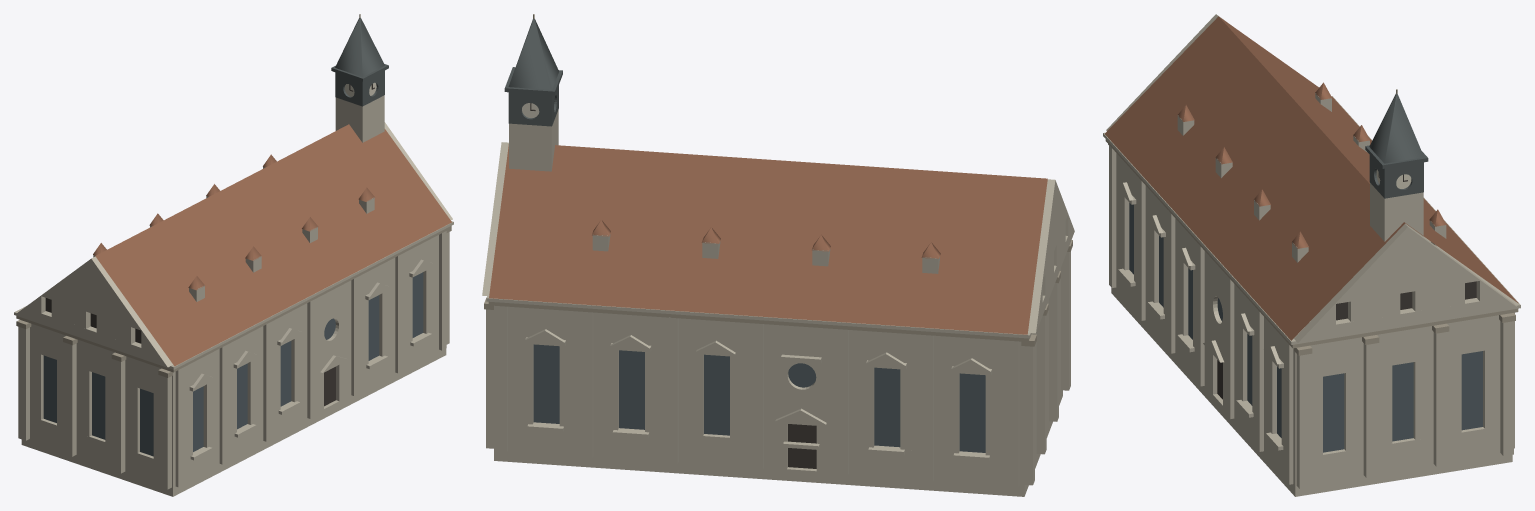
File: temple-saint-martin-montbeliard-near.glb
The picture shows the model from 3 angles, left to right: view 1: azimuth 30°, elevation 25°; view 2: azimuth 150°, elevation 25°; view 3: azimuth 270°, elevation 25°; orthographic projection. The views are drawn at different scales.
Visible parts, largest first — view 1: temple-saint-martin-montbeliard-0-stone, temple-saint-martin-montbeliard-0-roof, temple-saint-martin-montbeliard-0-glass, temple-saint-martin-montbeliard-0-slate, temple-saint-martin-montbeliard-0-trim, temple-saint-martin-montbeliard-0-shadow; view 2: temple-saint-martin-montbeliard-0-stone, temple-saint-martin-montbeliard-0-roof, temple-saint-martin-montbeliard-0-glass, temple-saint-martin-montbeliard-0-slate, temple-saint-martin-montbeliard-0-trim, temple-saint-martin-montbeliard-0-shadow; view 3: temple-saint-martin-montbeliard-0-stone, temple-saint-martin-montbeliard-0-roof, temple-saint-martin-montbeliard-0-glass, temple-saint-martin-montbeliard-0-slate, temple-saint-martin-montbeliard-0-trim, temple-saint-martin-montbeliard-0-shadow.
Boxes of the visible parts, box(x1,y1,x2,y2) form: temple-saint-martin-montbeliard-0-stone: box(14, 95, 453, 496); temple-saint-martin-montbeliard-0-roof: box(93, 124, 451, 366); temple-saint-martin-montbeliard-0-glass: box(43, 272, 423, 456); temple-saint-martin-montbeliard-0-slate: box(331, 18, 388, 106); temple-saint-martin-montbeliard-0-trim: box(16, 14, 451, 377); temple-saint-martin-montbeliard-0-shadow: box(45, 84, 374, 406); temple-saint-martin-montbeliard-0-stone: box(482, 110, 1074, 496); temple-saint-martin-montbeliard-0-roof: box(489, 144, 1047, 334); temple-saint-martin-montbeliard-0-glass: box(533, 344, 985, 452); temple-saint-martin-montbeliard-0-slate: box(504, 19, 562, 126); temple-saint-martin-montbeliard-0-trim: box(484, 14, 1072, 346); temple-saint-martin-montbeliard-0-shadow: box(530, 101, 816, 468); temple-saint-martin-montbeliard-0-stone: box(1103, 14, 1520, 496); temple-saint-martin-montbeliard-0-roof: box(1105, 16, 1518, 340); temple-saint-martin-montbeliard-0-glass: box(1129, 203, 1482, 452); temple-saint-martin-montbeliard-0-slate: box(1365, 94, 1428, 198); temple-saint-martin-montbeliard-0-trim: box(1105, 89, 1518, 355); temple-saint-martin-montbeliard-0-shadow: box(1217, 173, 1476, 399).
Size of the model in its own units: 43.93 by 31.5 by 31.23.
